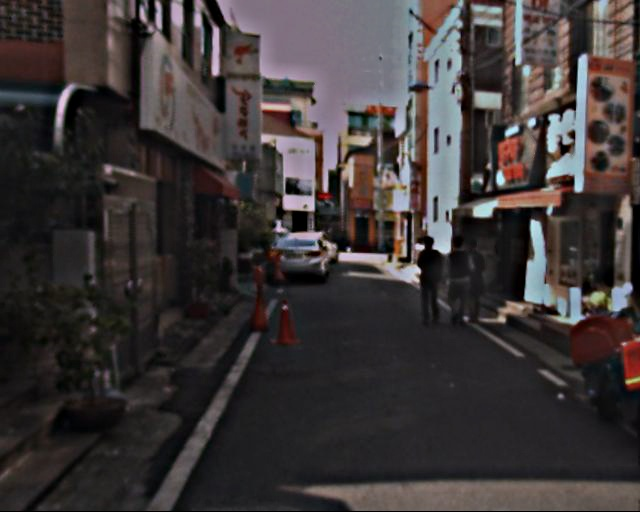person: (415, 236, 453, 329), (443, 238, 479, 327), (460, 238, 494, 320)
